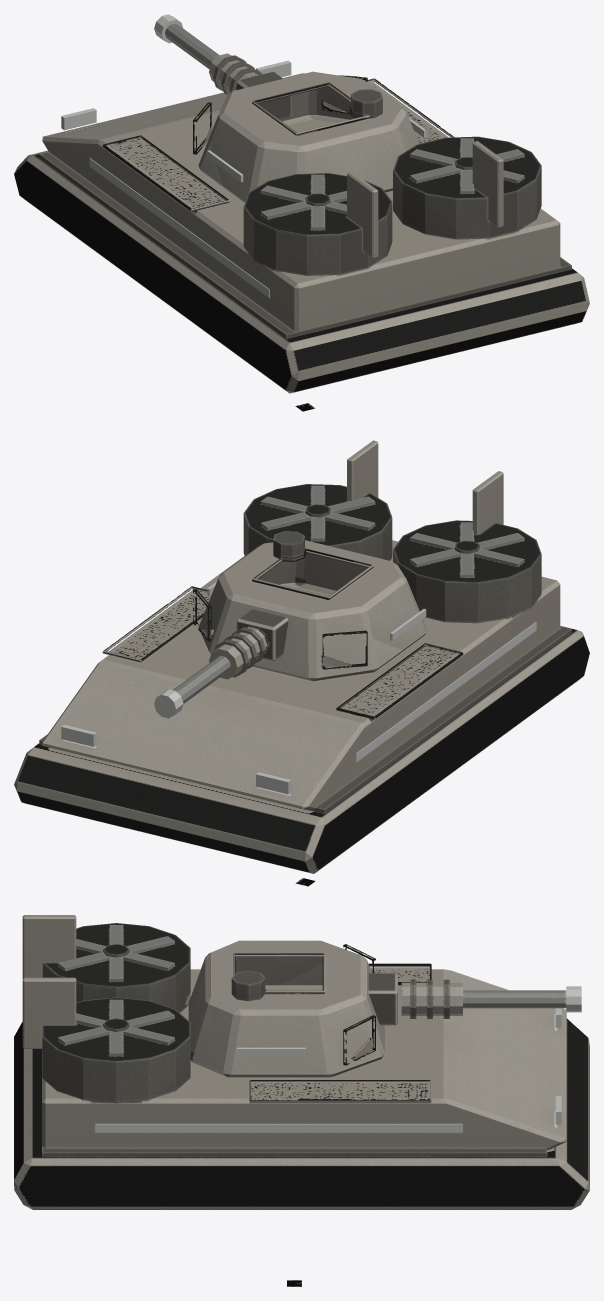
The model's file is ord_skimmer.fbx.
3 views of the same model, one above another, from view 1: azimuth 30°, elevation 25°; view 2: azimuth 150°, elevation 25°; view 3: azimuth 270°, elevation 25° (orthographic). The views are drawn at different scales.
Parts seen in each view (by area): view 1: base_bar, turret_bar, barrel_bar, fan1_bar, fan2_bar, base_glow_running_bar, base_glow_head_bar, turret_glow_running_bar; view 2: base_bar, turret_bar, barrel_bar, fan2_bar, fan1_bar, base_glow_running_bar, base_glow_head_bar, barrel_glow_weapon_bar; view 3: base_bar, turret_bar, barrel_bar, base_glow_running_bar, fan2_bar, fan1_bar, turret_glow_running_bar.
Part boxes in pixels (<box>): base_bar: <box>14,73,589,393</box>; turret_bar: <box>193,71,419,202</box>; barrel_bar: <box>165,23,291,119</box>; fan1_bar: <box>260,174,346,230</box>; fan2_bar: <box>410,138,524,193</box>; base_glow_running_bar: <box>89,158,269,297</box>; base_glow_head_bar: <box>61,60,291,130</box>; turret_glow_running_bar: <box>207,117,426,182</box>; base_bar: <box>14,440,589,873</box>; turret_bar: <box>193,531,427,681</box>; barrel_bar: <box>173,609,288,703</box>; fan2_bar: <box>261,485,375,541</box>; fan1_bar: <box>410,522,524,577</box>; base_glow_running_bar: <box>356,622,536,761</box>; base_glow_head_bar: <box>61,724,291,794</box>; barrel_glow_weapon_bar: <box>154,689,183,718</box>; base_bar: <box>14,915,589,1209</box>; turret_bar: <box>188,940,384,1077</box>; barrel_bar: <box>368,973,566,1025</box>; base_glow_running_bar: <box>95,1124,462,1132</box>; fan2_bar: <box>58,999,174,1056</box>; fan1_bar: <box>58,925,174,981</box>; turret_glow_running_bar: <box>237,1047,305,1055</box>.
Bounding box in the file's own units: 460 × 485 × 752.
2 materials, 2 textured.
